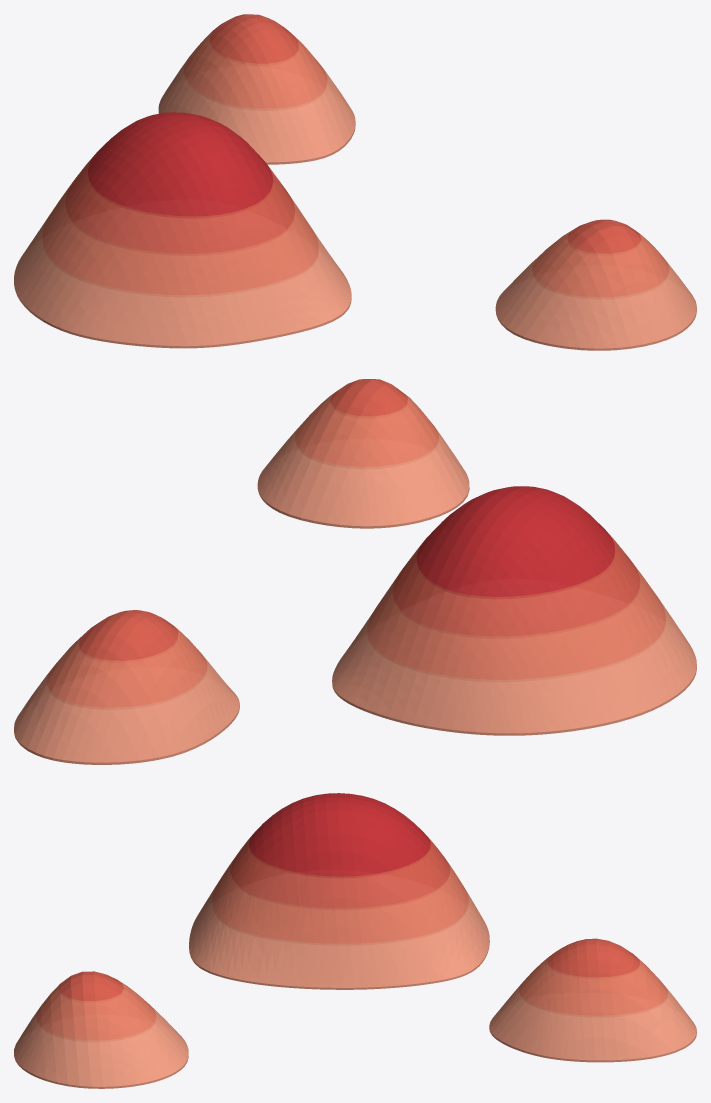
File: test_top.fbx
The picture shows the model from 3 angles, top to bottom: view 1: azimuth 30°, elevation 25°; view 2: azimuth 150°, elevation 25°; view 3: azimuth 270°, elevation 25°; orthographic projection. The views are drawn at different scales.
Visible parts, largest first — view 1: 物件_10, 物件_1, 物件_7, 物件_8, 物件_4, 物件_9, 物件_6, 物件_5, 物件_3, 物件_2; view 2: 物件_10, 物件_1, 物件_7, 物件_9, 物件_8, 物件_4, 物件_6, 物件_5, 物件_3, 物件_2; view 3: 物件_10, 物件_1, 物件_7, 物件_9, 物件_8, 物件_4, 物件_6, 物件_5, 物件_3, 物件_2.
Boxes of the visible parts, box(x1,y1,x2,y2) form: 物件_10: box(14, 217, 351, 348); 物件_1: box(88, 112, 273, 216); 物件_7: box(42, 182, 318, 295); 物件_8: box(495, 259, 696, 350); 物件_4: box(65, 154, 294, 253); 物件_9: box(158, 61, 355, 164); 物件_6: box(183, 27, 327, 108); 物件_5: box(532, 225, 669, 297); 物件_3: box(209, 14, 298, 63); 物件_2: box(567, 219, 641, 253); 物件_10: box(332, 599, 696, 735); 物件_1: box(416, 486, 614, 596); 物件_7: box(367, 557, 665, 679); 物件_9: box(14, 656, 239, 764); 物件_8: box(257, 426, 469, 528); 物件_4: box(392, 532, 640, 636); 物件_6: box(46, 621, 207, 707); 物件_5: box(295, 388, 438, 466); 物件_3: box(78, 610, 177, 660); 物件_2: box(330, 379, 407, 416); 物件_10: box(189, 885, 489, 989); 物件_1: box(248, 793, 430, 876); 物件_7: box(212, 856, 468, 943); 物件_9: box(489, 984, 696, 1062); 物件_8: box(14, 1003, 188, 1088); 物件_4: box(230, 835, 450, 908); 物件_6: box(519, 953, 668, 1015); 物件_5: box(36, 977, 156, 1040); 物件_3: box(547, 938, 639, 977); 物件_2: box(58, 971, 123, 1000).
Bounding box in the file's own units: 240 × 69.07 × 317.
